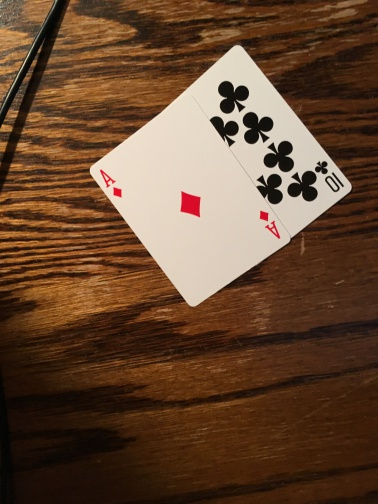ace: (90, 91, 289, 303)
ten: (177, 44, 353, 224)
